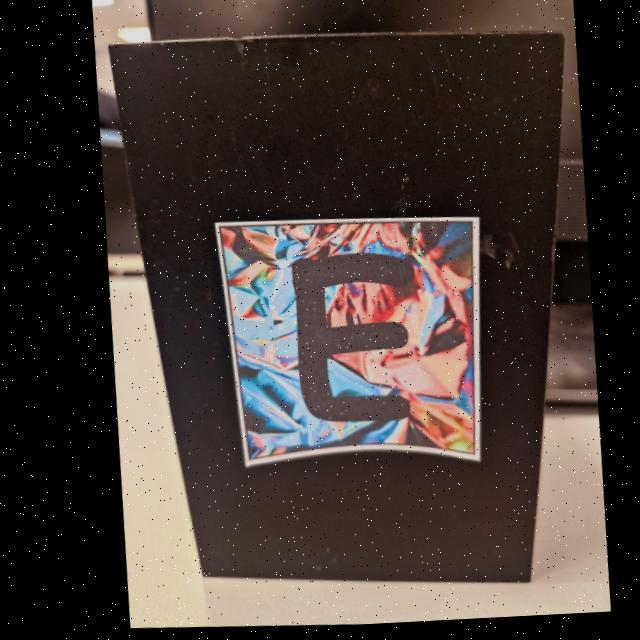E: (286, 258, 405, 424)
